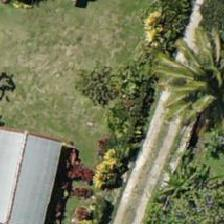coconut_tree: (167, 35, 223, 125)
